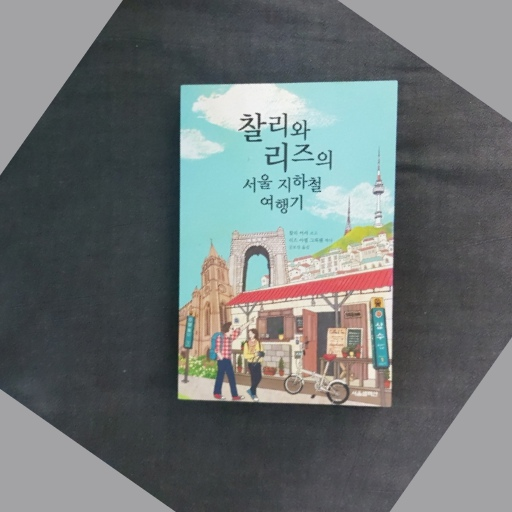Paper_0: (171, 77, 404, 421)
